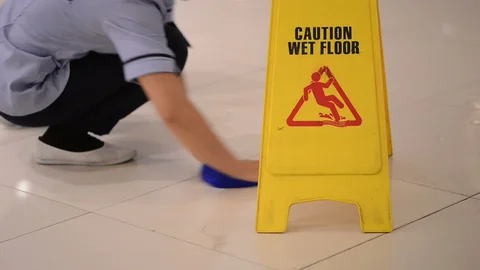wet caution sign: (253, 0, 406, 238)
